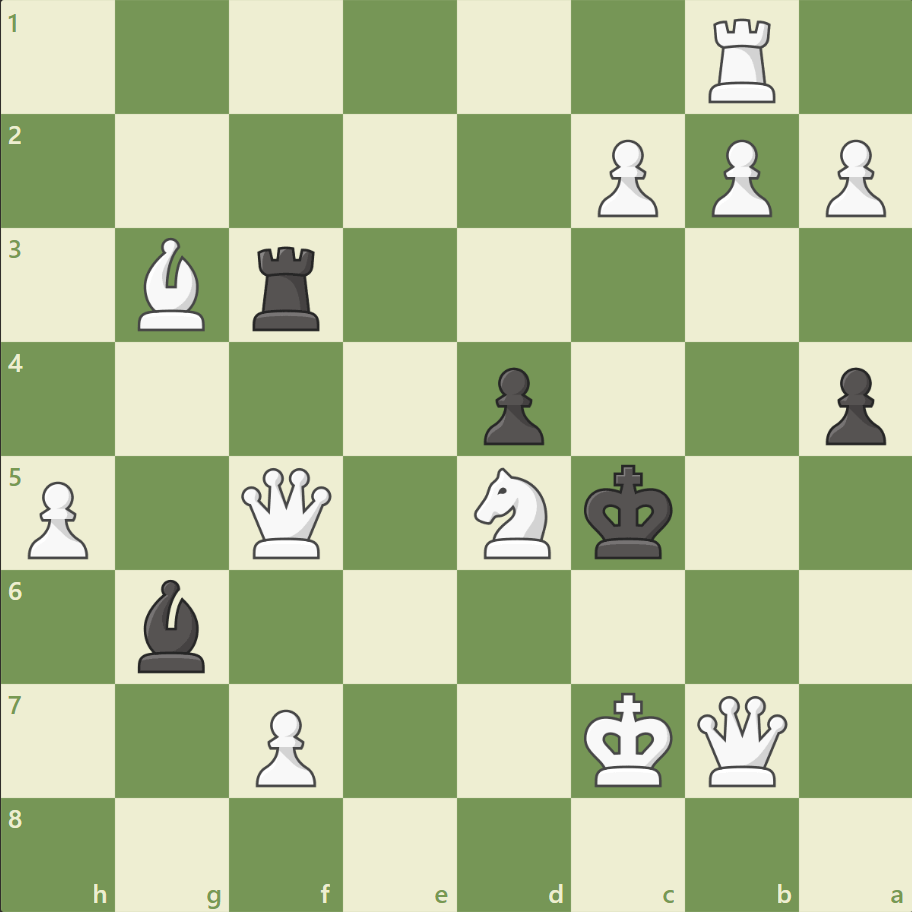B: (131, 233, 215, 336)
K: (579, 685, 679, 793)
N: (465, 461, 562, 564)
P: (247, 700, 322, 791), (20, 473, 95, 564), (701, 132, 776, 223), (815, 132, 889, 223), (588, 132, 662, 223)
Q: (691, 690, 790, 789), (237, 463, 336, 562)
R: (700, 12, 783, 109)
b: (131, 574, 215, 676)
k: (579, 458, 679, 566)
p: (474, 359, 549, 450), (815, 359, 889, 450)
r: (246, 239, 329, 336)
